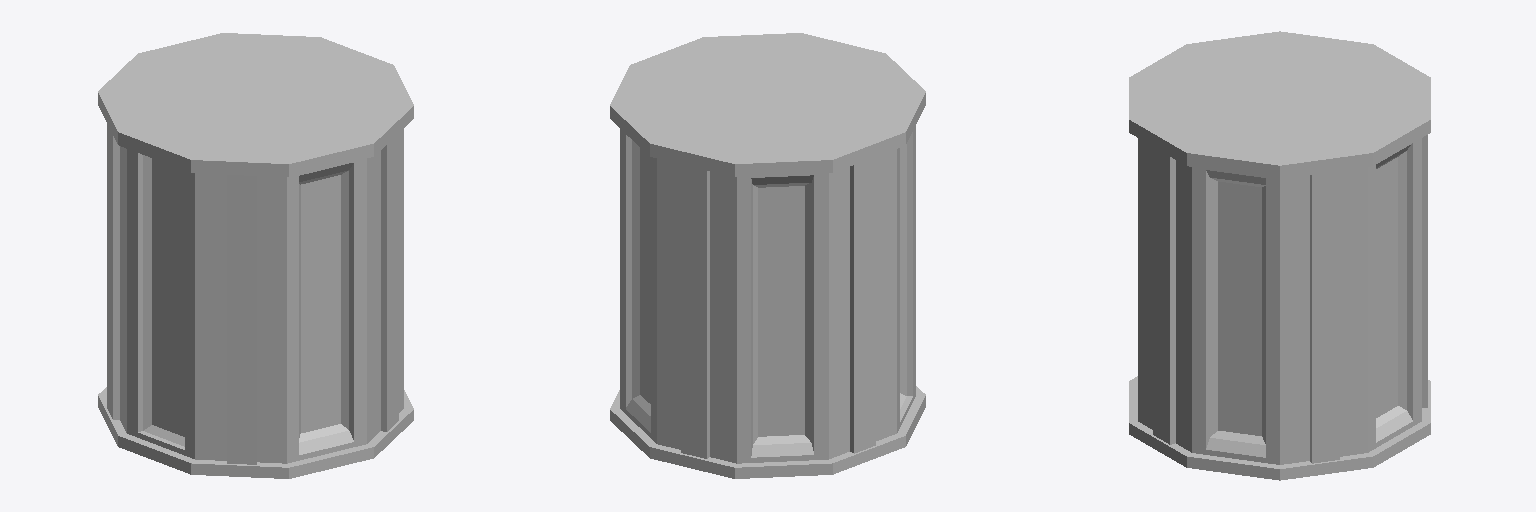
Rendered from pillar7.obj.
3 renders of one model, left to right at view 1: azimuth 30°, elevation 25°; view 2: azimuth 150°, elevation 25°; view 3: azimuth 270°, elevation 25°, orthographic.
Parts seen in each view (by area): view 1: pCube8; view 2: pCube8; view 3: pCube8.
Boxes of the visible parts, box(x1,y1,x2,y2) form: pCube8: box(98, 33, 413, 478); pCube8: box(610, 33, 925, 478); pCube8: box(1129, 31, 1430, 480).
Size of the model in its own units: 0.9587 by 1.05 by 0.9118.